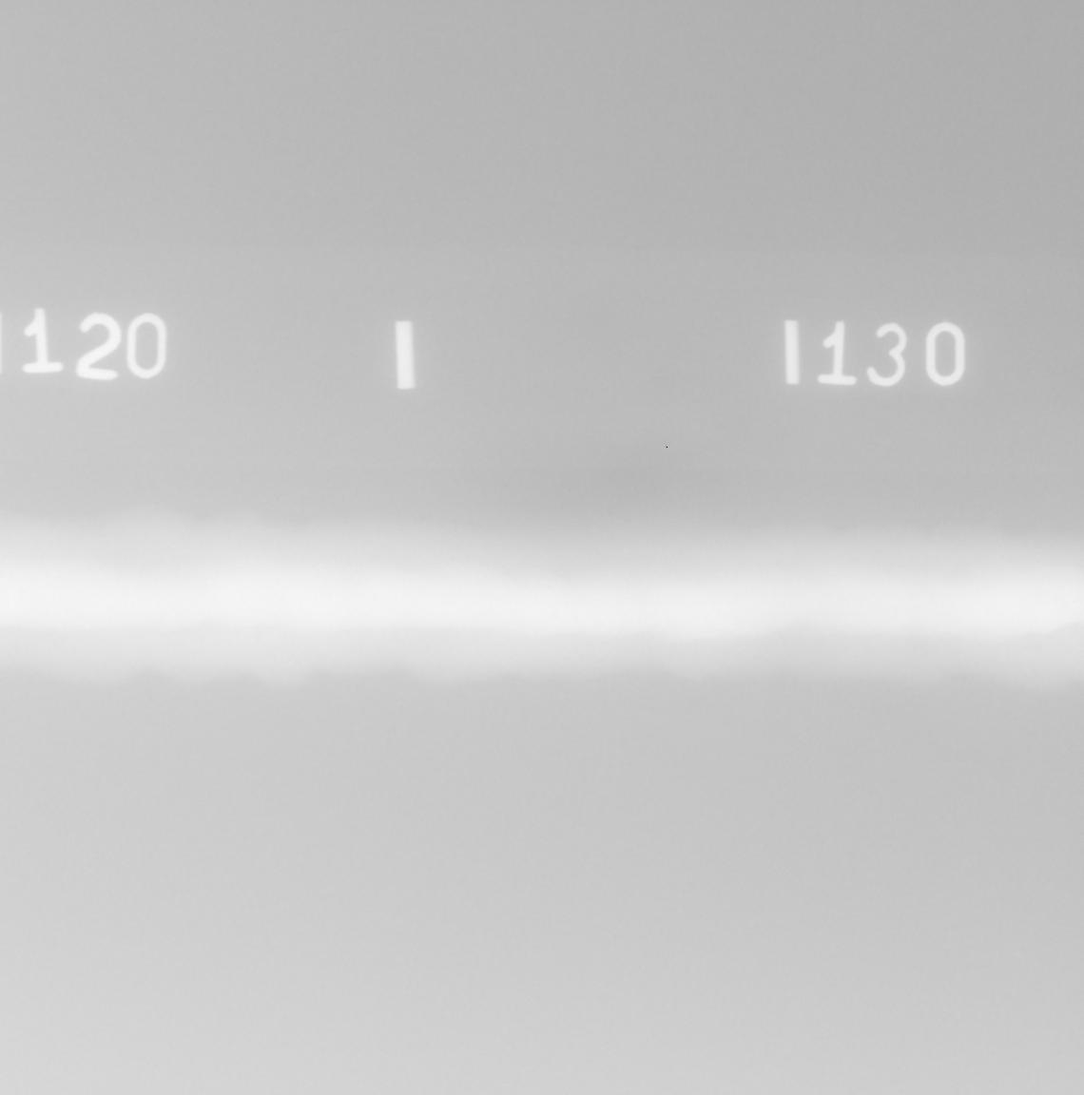Pore/Porosity: (551, 614, 558, 619), (548, 585, 554, 590)
